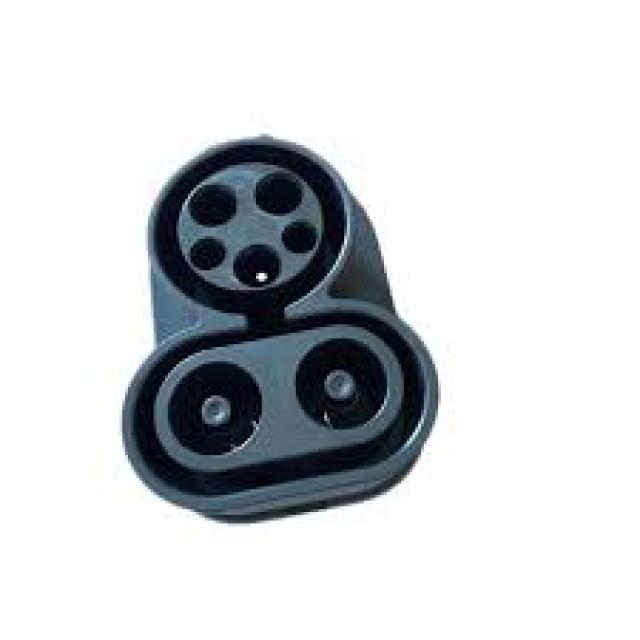CCS1: (116, 109, 467, 544)
